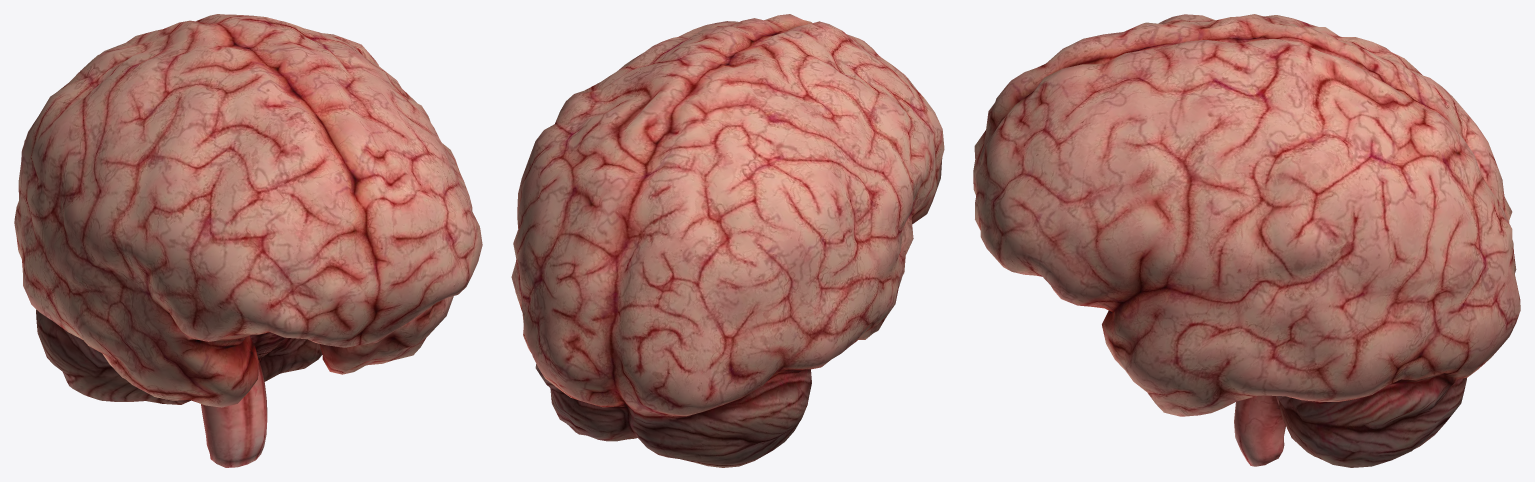
The model's file is brain.glb.
3 renders of one model, left to right at view 1: azimuth 30°, elevation 25°; view 2: azimuth 150°, elevation 25°; view 3: azimuth 270°, elevation 25°, orthographic. The views are drawn at different scales.
Parts seen in each view (by area): view 1: Object_5; view 2: Object_5; view 3: Object_5.
Boxes of the visible parts, x1,y1,x2,y2 form: Object_5: (14, 14, 482, 467); Object_5: (511, 14, 944, 467); Object_5: (973, 14, 1520, 467).
Bounding box in the file's own units: 0.7609 × 0.8547 × 0.991.
1 material, 1 textured.
